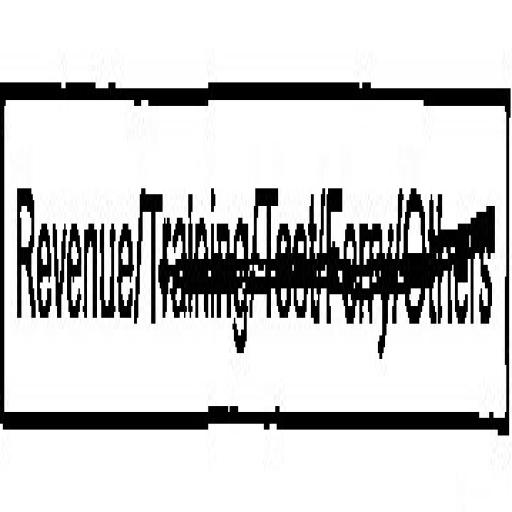check: (0, 15, 140, 459)
